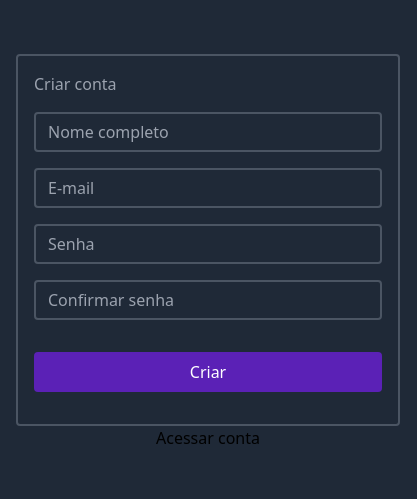
Test: SignUp Page › should be able to show field errors
Click the button "Criar": (208, 372) [34, 352, 382, 392]
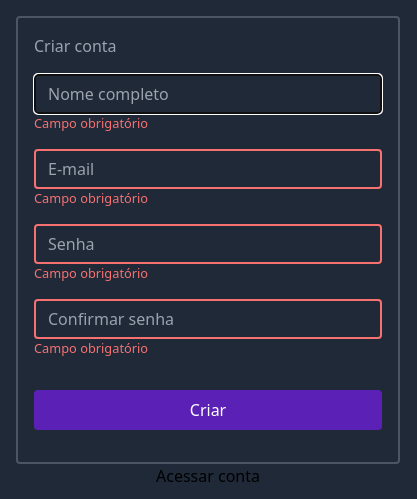
Result: the text "Campo obrigatório" is shown 4 times at [34, 114, 148, 132]; [34, 189, 148, 207]; [34, 264, 148, 282]; [34, 339, 148, 357]
